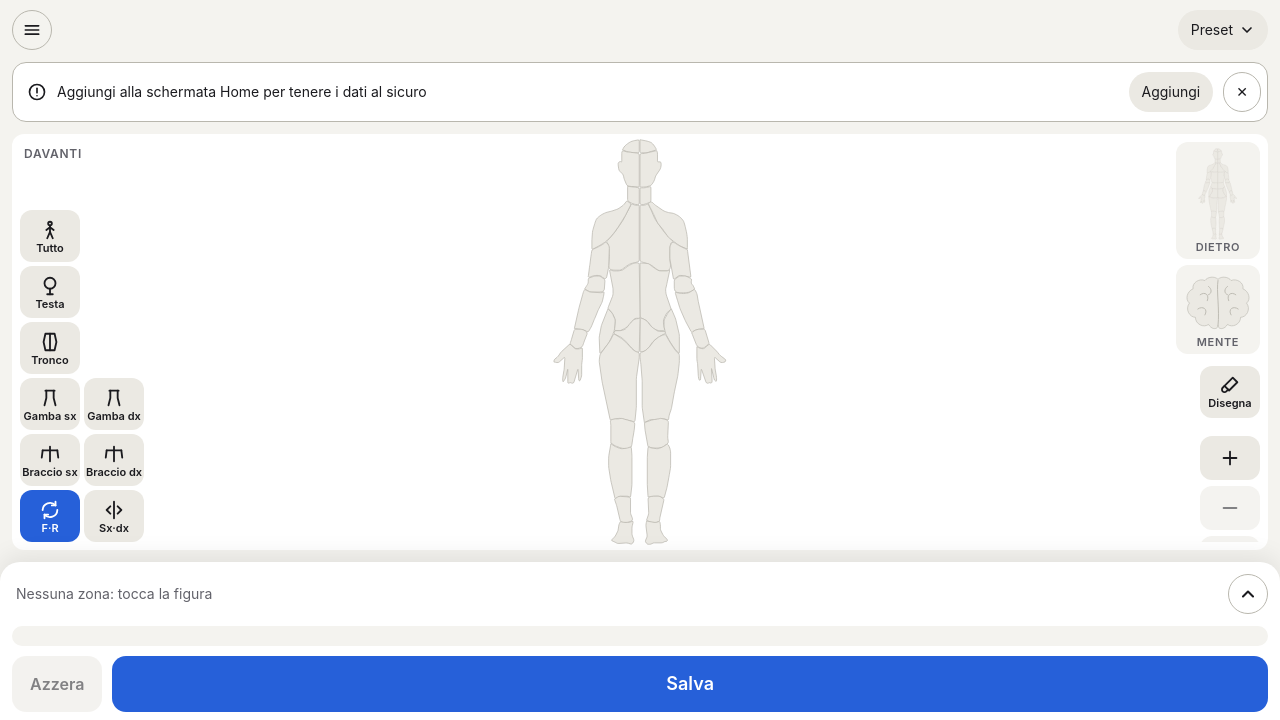
it: Navigation (#37) › one dropdown open at a time: opening another closes the first
The width and height of the screenshot is (1280, 720).
Click the button named "Menu" at [32, 30], box [12, 10, 52, 50]
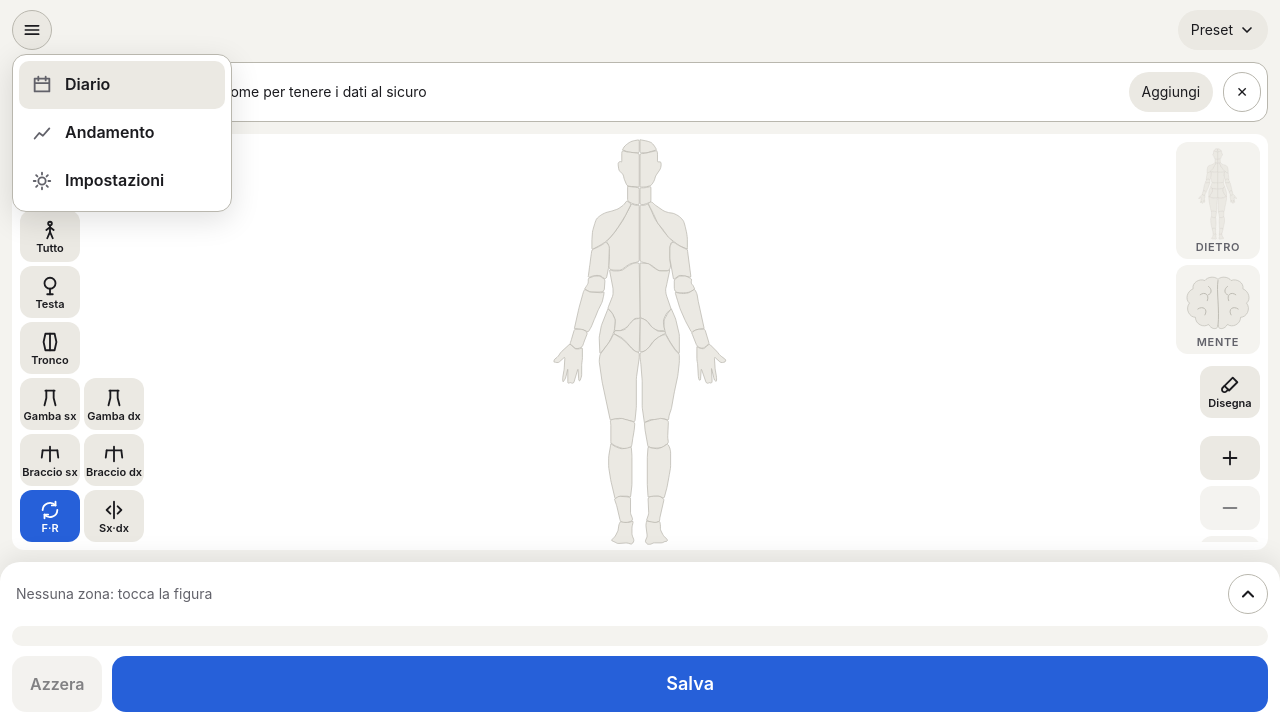
Press the mouse on the button "Preset" at [1223, 30], box [1178, 10, 1268, 50]
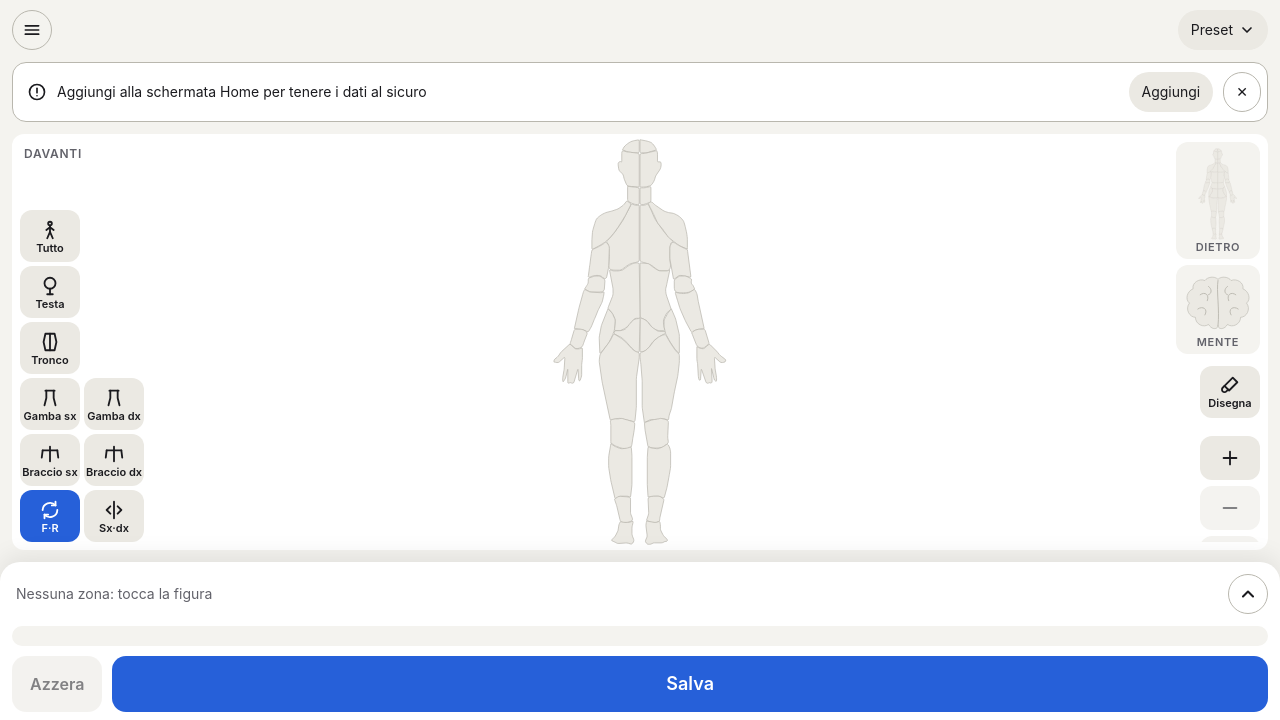
Click the button "Preset" at [1223, 30], box [1178, 10, 1268, 50]
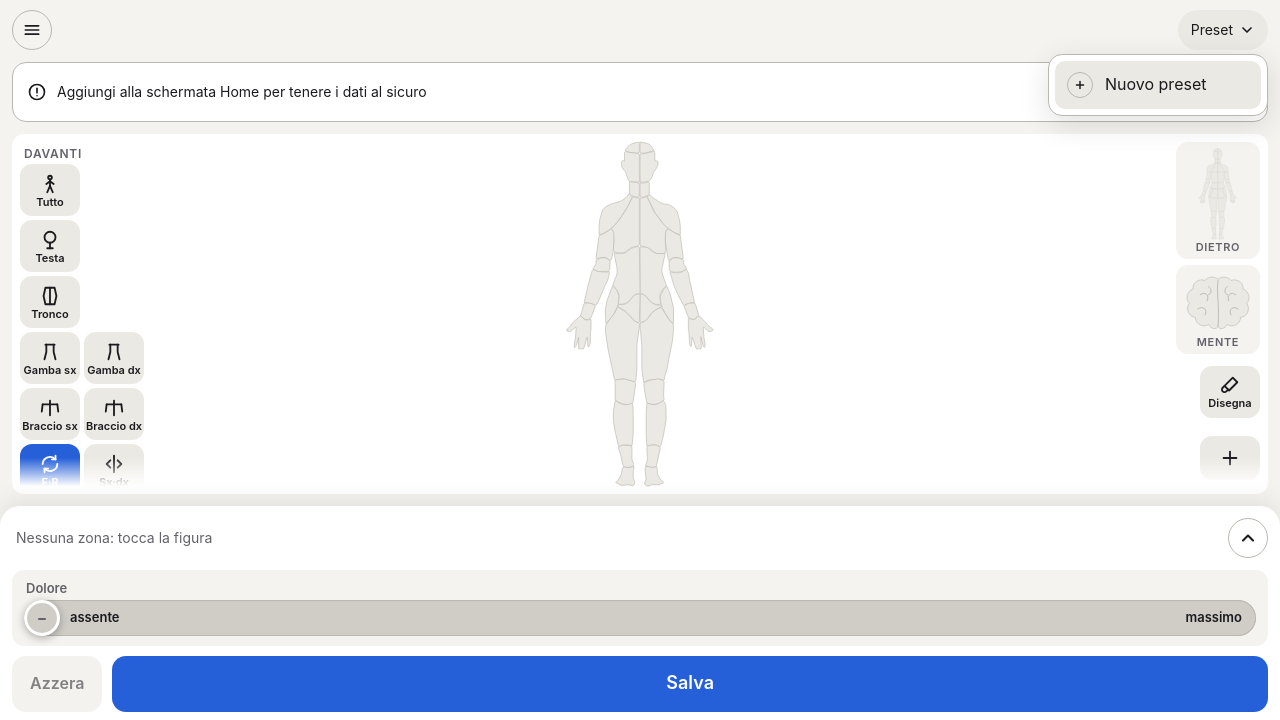
expect the number of menus is 1: met, box [1048, 54, 1268, 116]
